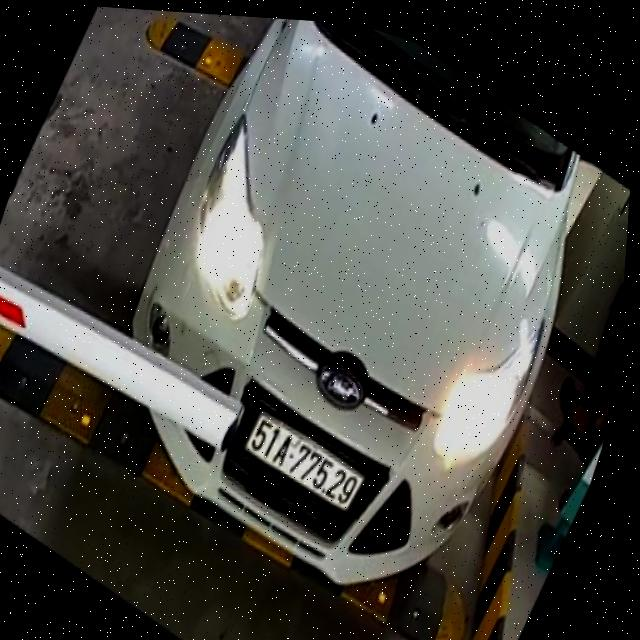car: (61, 7, 628, 638)
plate: (230, 406, 379, 518)
